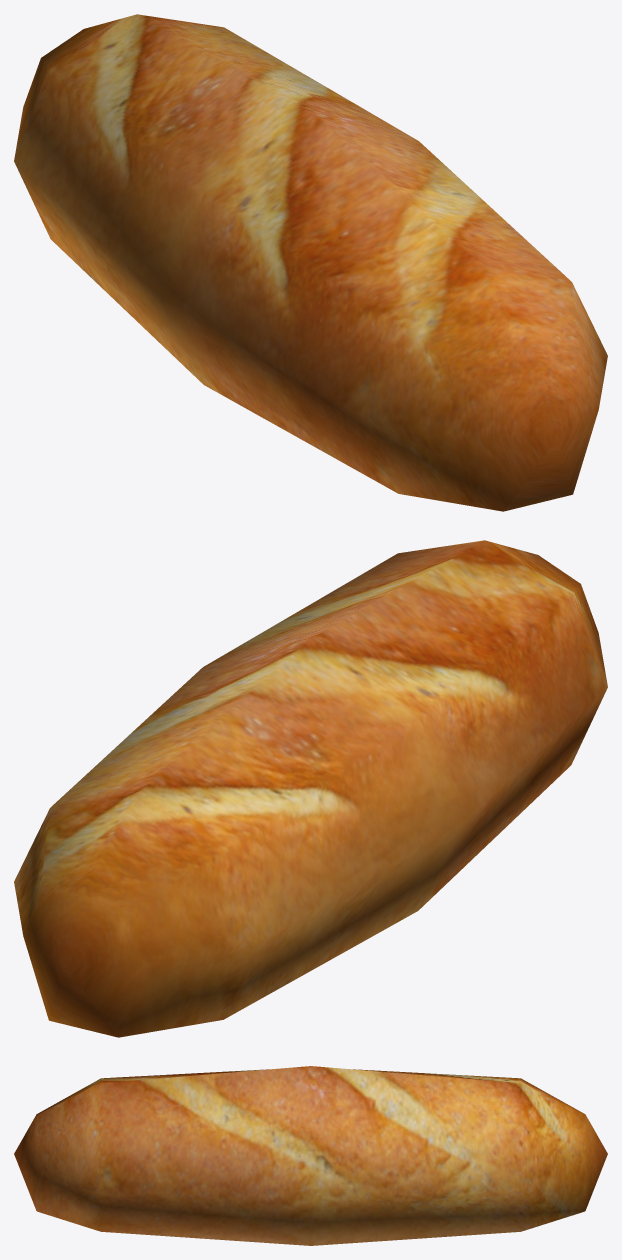
Rendered from bread.fbx.
3 views of the same model, one above another, from view 1: azimuth 30°, elevation 25°; view 2: azimuth 150°, elevation 25°; view 3: azimuth 270°, elevation 25° (orthographic). The views are drawn at different scales.
Parts seen in each view (by area): view 1: bread; view 2: bread; view 3: bread.
Boxes of the visible parts, x1=… form: bread: x1=14, y1=14, x2=607, y2=511; bread: x1=14, y1=540, x2=607, y2=1037; bread: x1=14, y1=1066, x2=607, y2=1245.
Size of the model in its own units: 20.48 by 15.73 by 57.09.
